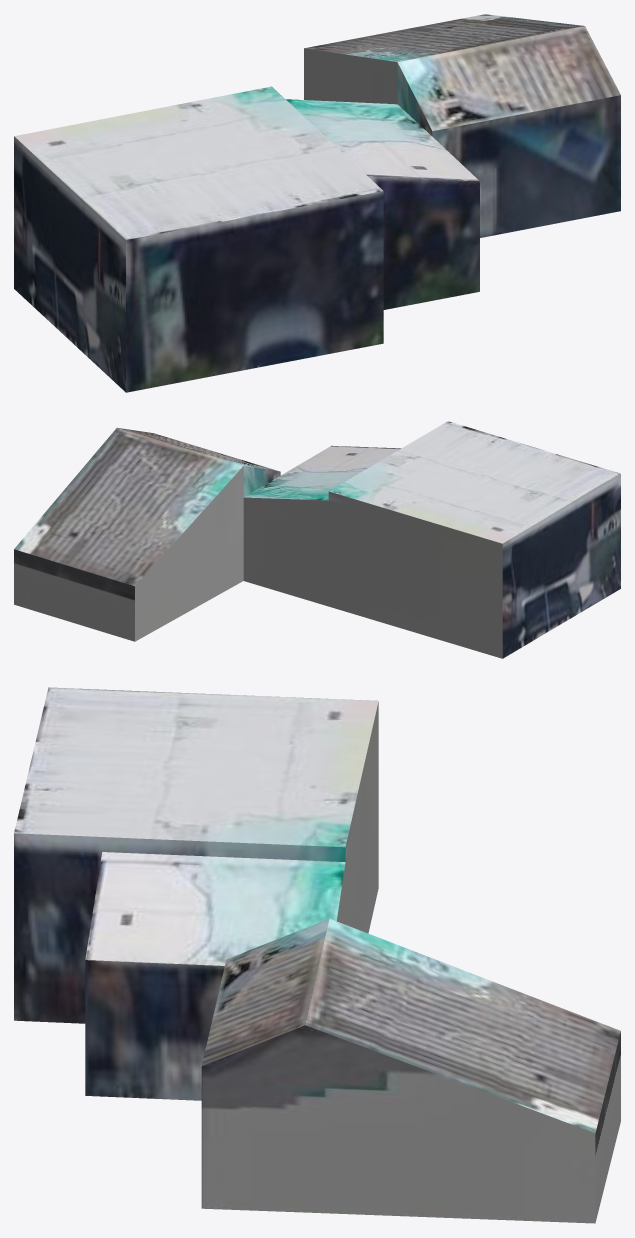
The picture shows the model from 3 angles, top to bottom: view 1: azimuth 30°, elevation 25°; view 2: azimuth 150°, elevation 25°; view 3: azimuth 270°, elevation 25°; orthographic projection. The views are drawn at different scales.
Visible parts, largest first — view 1: B287224045801062A0; view 2: B287224045801062A0; view 3: B287224045801062A0.
Part boxes in pixels (bbox=[...]): B287224045801062A0: bbox=[14, 14, 620, 392]; B287224045801062A0: bbox=[14, 421, 620, 658]; B287224045801062A0: bbox=[14, 687, 620, 1223].
Size of the model in its own units: 14.02 by 3.51 by 10.31.
Materials: 1 (1 with a texture image).
